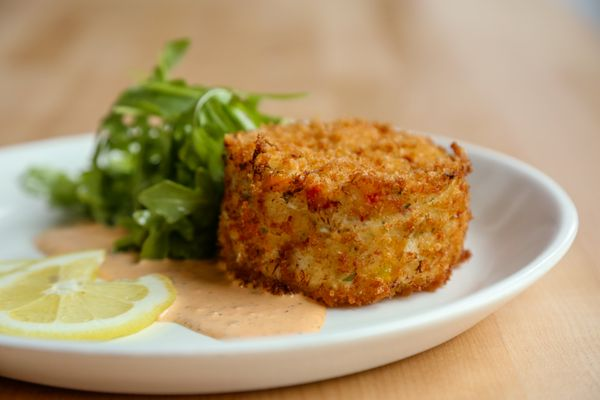taco: (0, 249, 177, 343)
